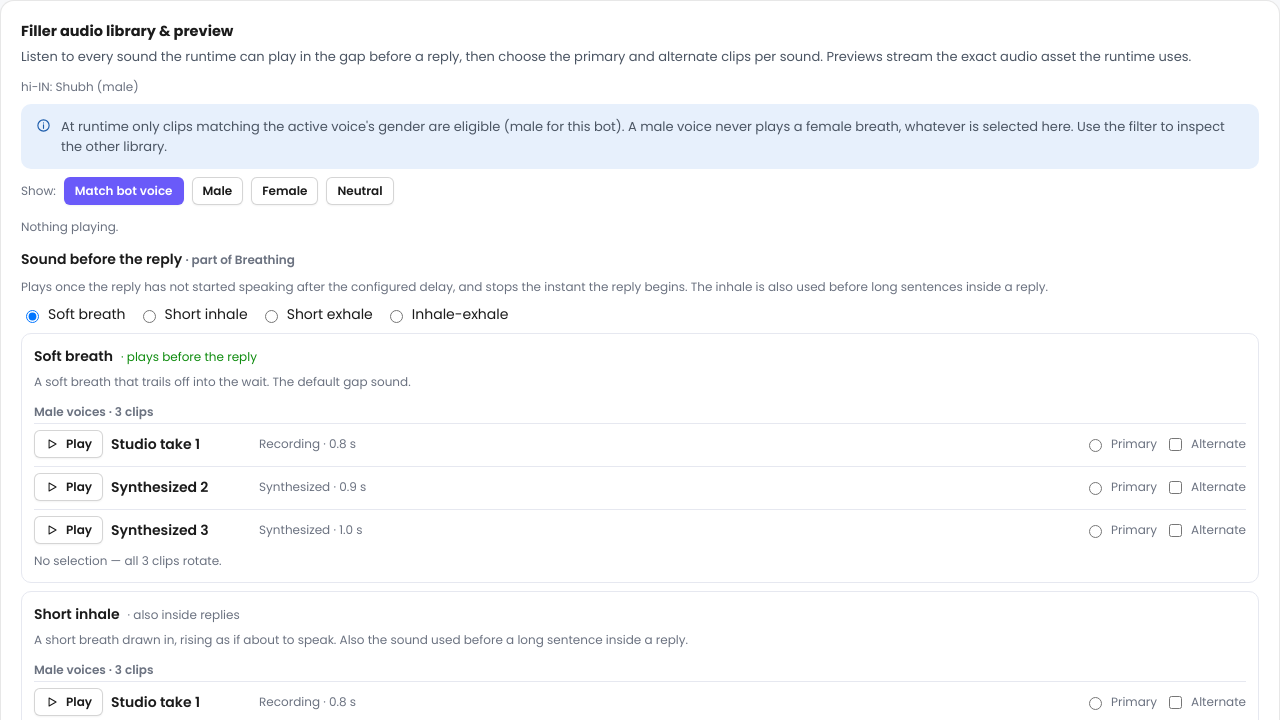
FillerAudioLibrary › shows the runtime voice gender by default and lets the operator inspect the other library
Expected: the text "hi-IN: Shubh (male)" is shown, [21,78,139,96]
Expected: the element with test id "clips-breath-male" is shown, [34,397,1246,570]
Click the button "Female".
click(285, 191)  # box [251,177,318,205]
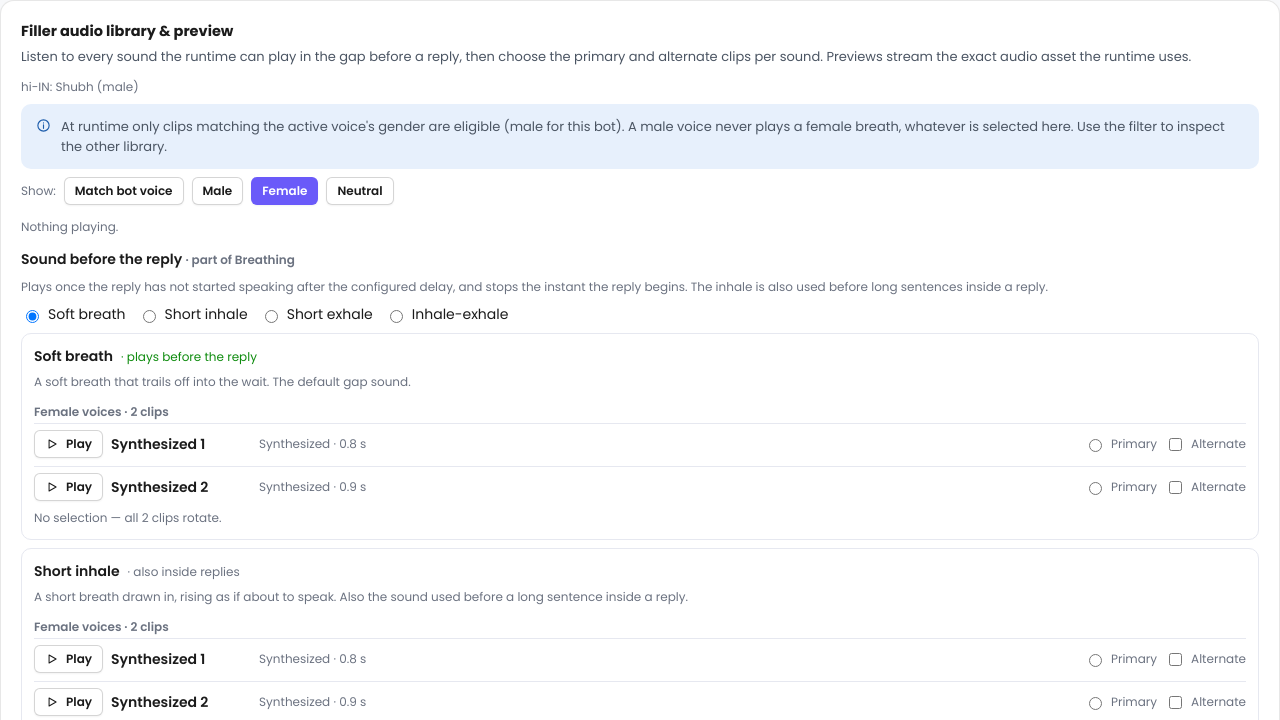
Expected: the element with test id "clips-breath-female" is shown, [34,397,1246,527]
Expected: the element with test id "clips-breath-male" is gone
